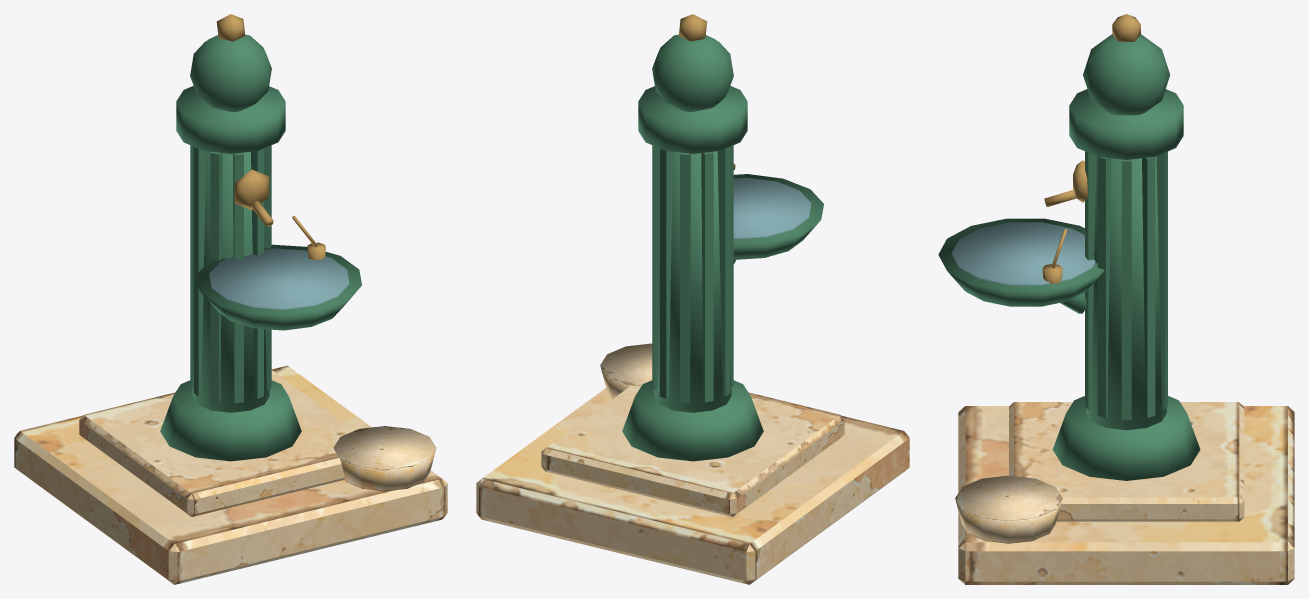
3 renders of one model, left to right at view 1: azimuth 30°, elevation 25°; view 2: azimuth 150°, elevation 25°; view 3: azimuth 270°, elevation 25°, orthographic. The views are drawn at different scales.
Parts seen in each view (by area): view 1: seaside_stone, house_paint; view 2: seaside_stone, house_paint; view 3: house_paint, seaside_stone.
Boxes of the visible parts, x1,y1,x2,y2 form: seaside_stone: (14,365,447,584); house_paint: (160,14,361,461); seaside_stone: (476,343,909,584); house_paint: (622,14,823,461); house_paint: (938,14,1200,480); seaside_stone: (955,402,1294,584).
Bounding box in the file's own units: 1.01 × 1.65 × 1.06.
2 materials, 2 textured.
